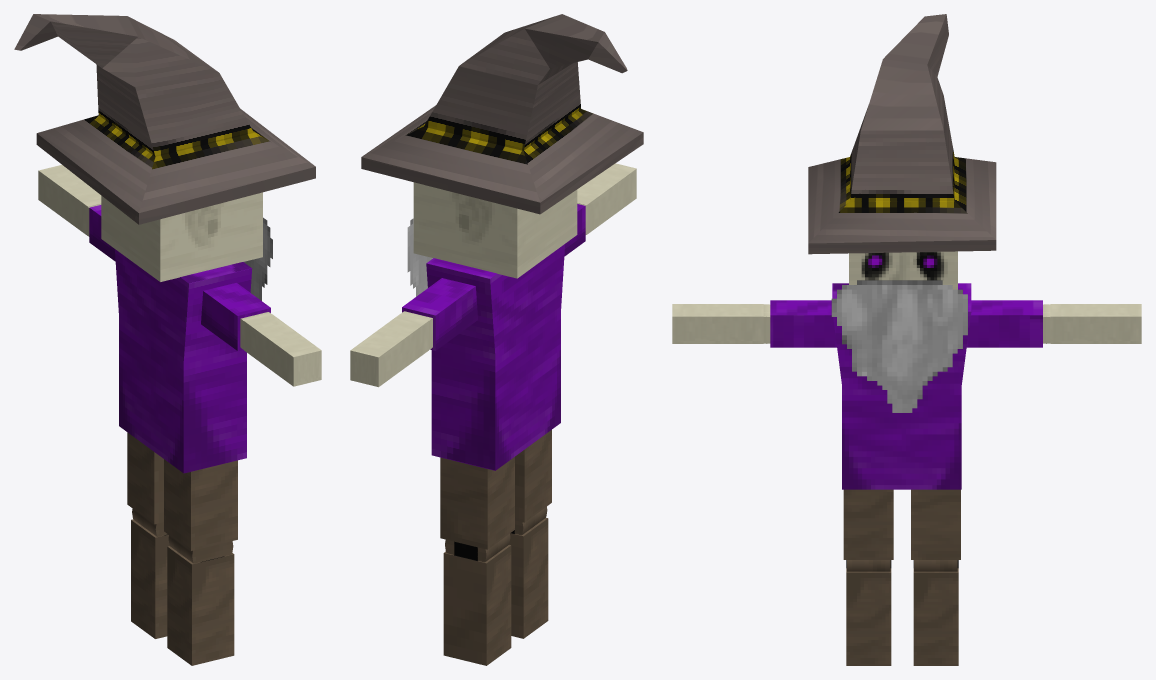
The model's file is WizardPlayer.fbx.
3 views of the same model, side by side, from view 1: azimuth 30°, elevation 25°; view 2: azimuth 150°, elevation 25°; view 3: azimuth 270°, elevation 25° (orthographic). The views are drawn at different scales.
Parts seen in each view (by area): view 1: Player; view 2: Player; view 3: Player.
Boxes of the visible parts, x1,y1,x2,y2 form: Player: (14, 14, 321, 665); Player: (350, 14, 643, 665); Player: (672, 14, 1141, 665).
Bounding box in the file's own units: 0.8158 × 2.15 × 1.56.
